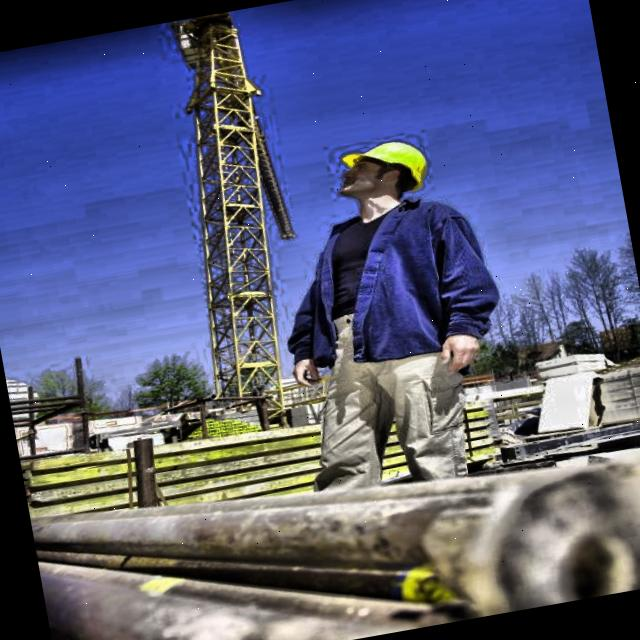helmet: (330, 128, 440, 212)
